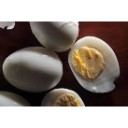begg: (71, 37, 120, 93), (3, 47, 62, 87)
